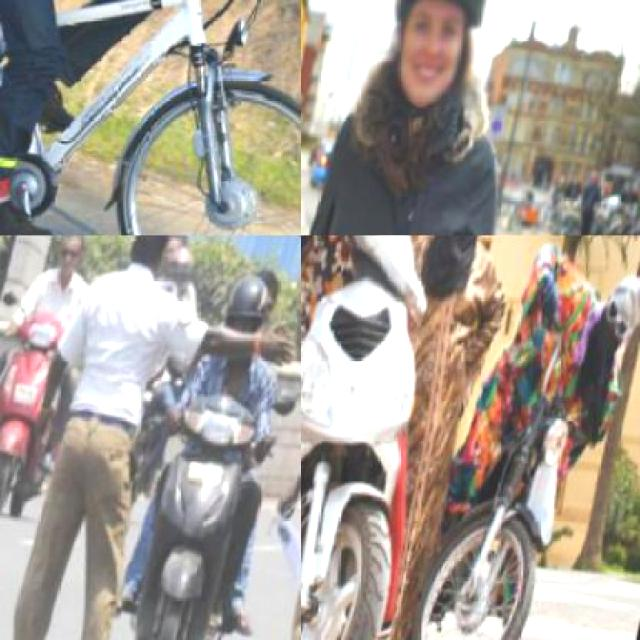With Helmet: (361, 0, 517, 111), (217, 263, 275, 354), (162, 236, 200, 299)
Without Helmet: (592, 235, 638, 351), (51, 235, 95, 271)
